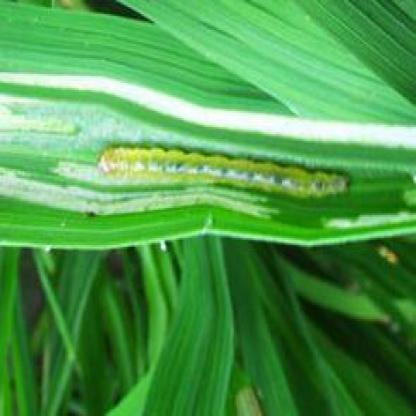leaf-folder: (94, 132, 354, 220)
